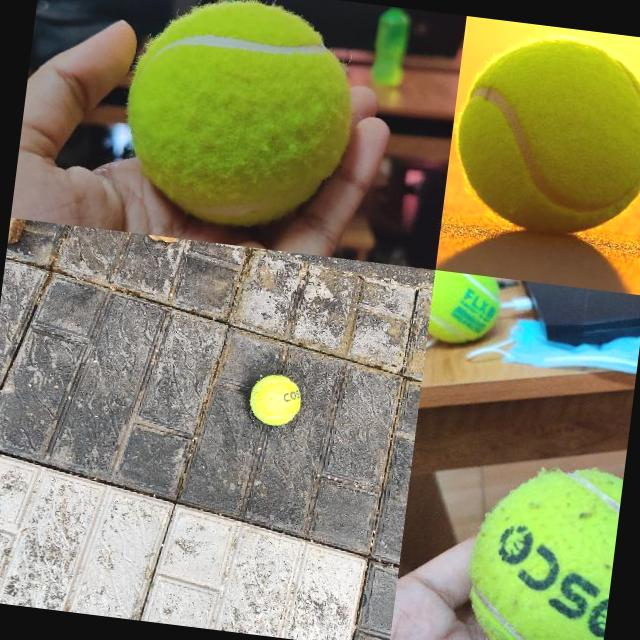Tennis Ball: (114, 0, 363, 238), (444, 27, 640, 244), (458, 451, 623, 640), (427, 270, 502, 348), (246, 370, 304, 428)
